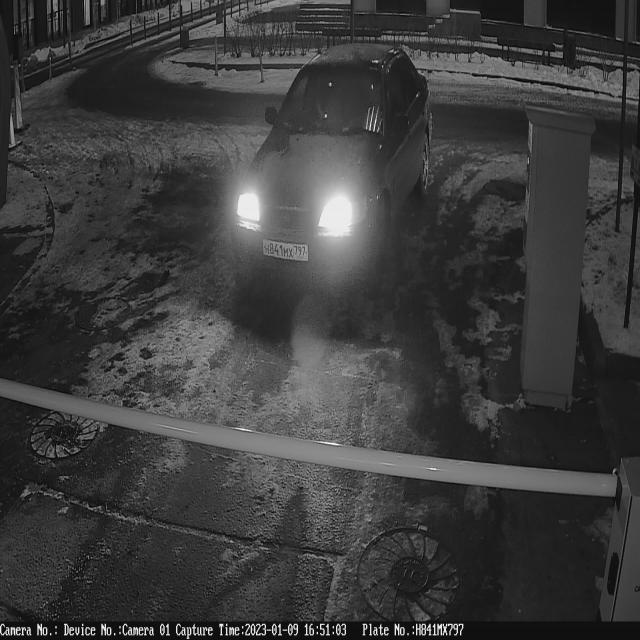car-plate-numbers: (260, 237, 312, 271)
